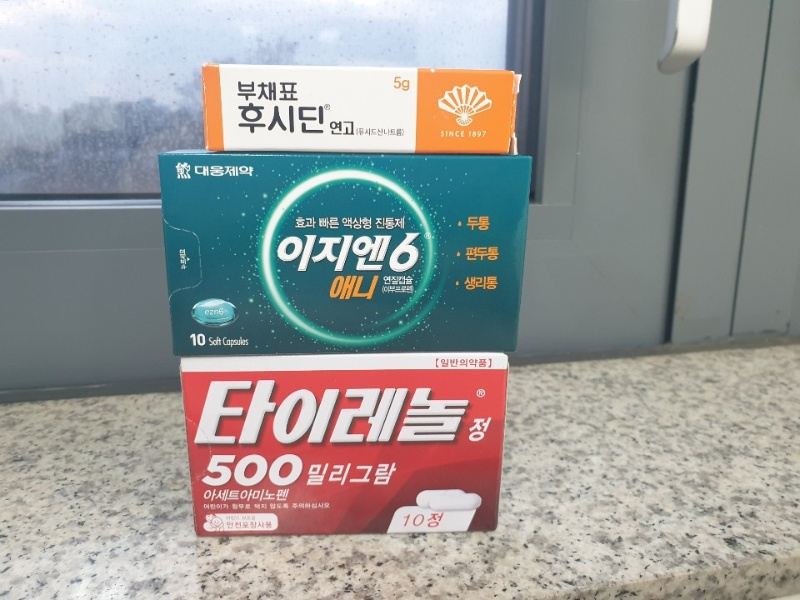ezn: (159, 150, 532, 352)
fucidin: (201, 64, 516, 155)
tylenol: (176, 357, 507, 533)
